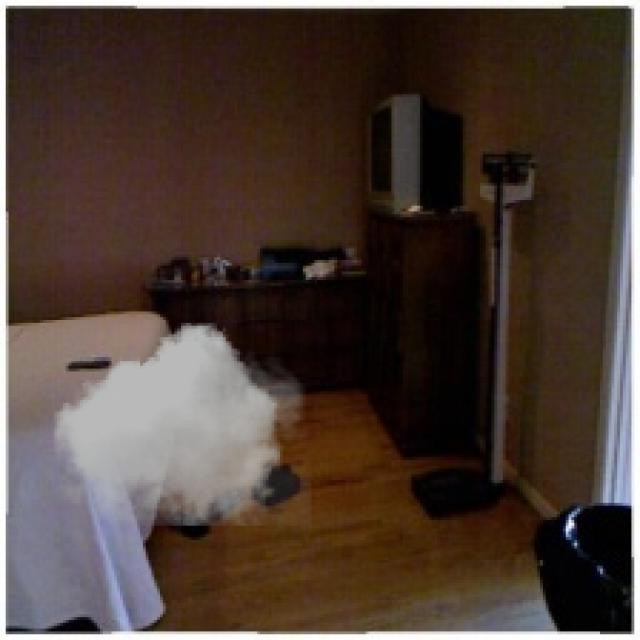Smoke: (48, 323, 312, 526)
